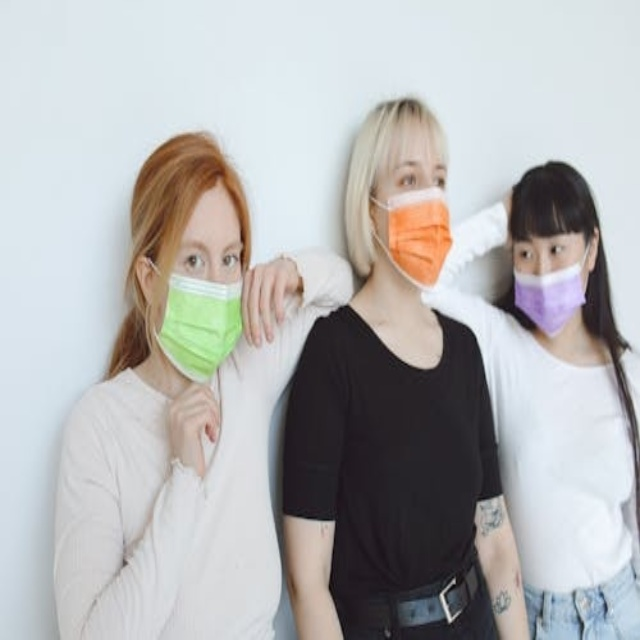Mascara: (151, 263, 246, 380), (369, 188, 452, 288), (512, 240, 591, 337)
Sin_gafas: (385, 158, 453, 200), (175, 233, 242, 275), (515, 229, 576, 263)
Sin_guantes: (241, 255, 303, 344), (164, 381, 220, 471)
